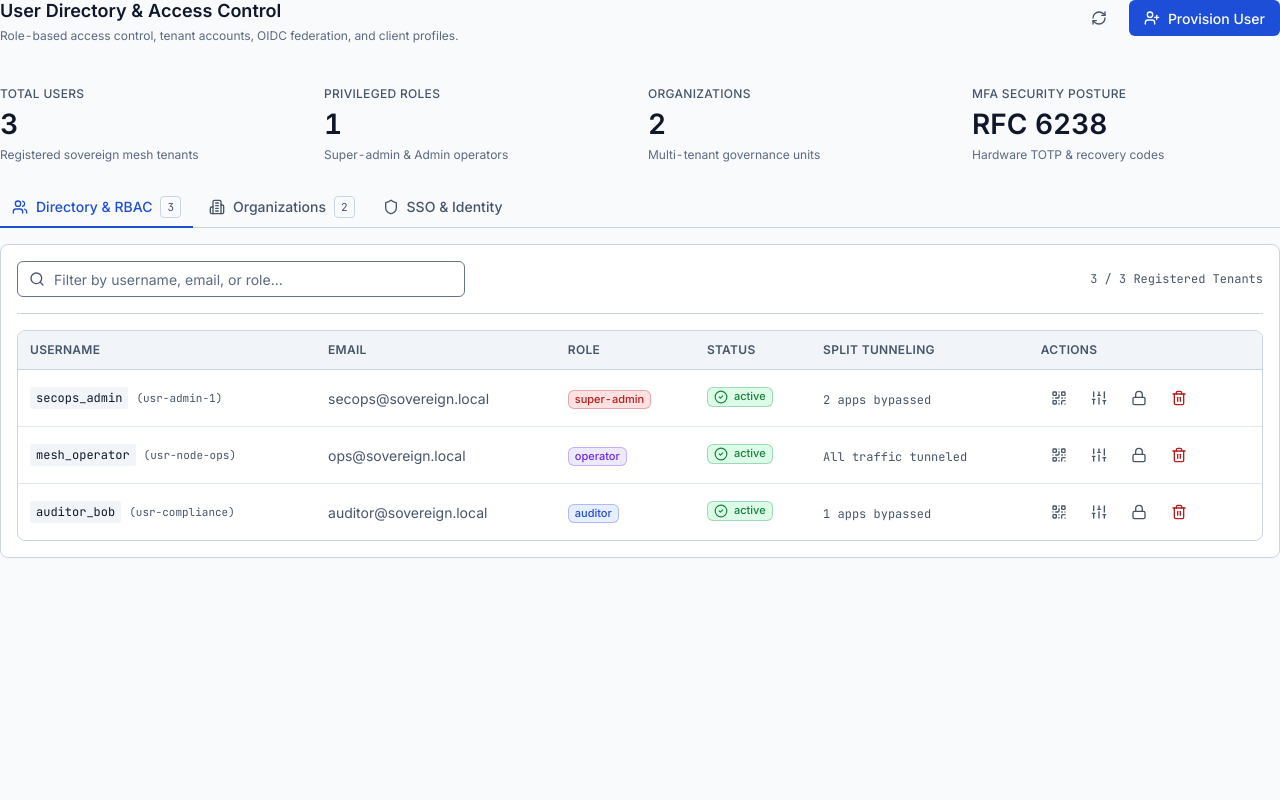
Test: WP-410: UsersRoute (Role-Based Access Control, Organizations & Client Profiles) › 2. Provisions a new tenant user via the modal dialog
Expected: the text "secops_admin" is shown, [30,387,128,409]
# Click "Provision User" button
Click the button "Provision User" at (1204, 18), box [1129,0,1279,36]
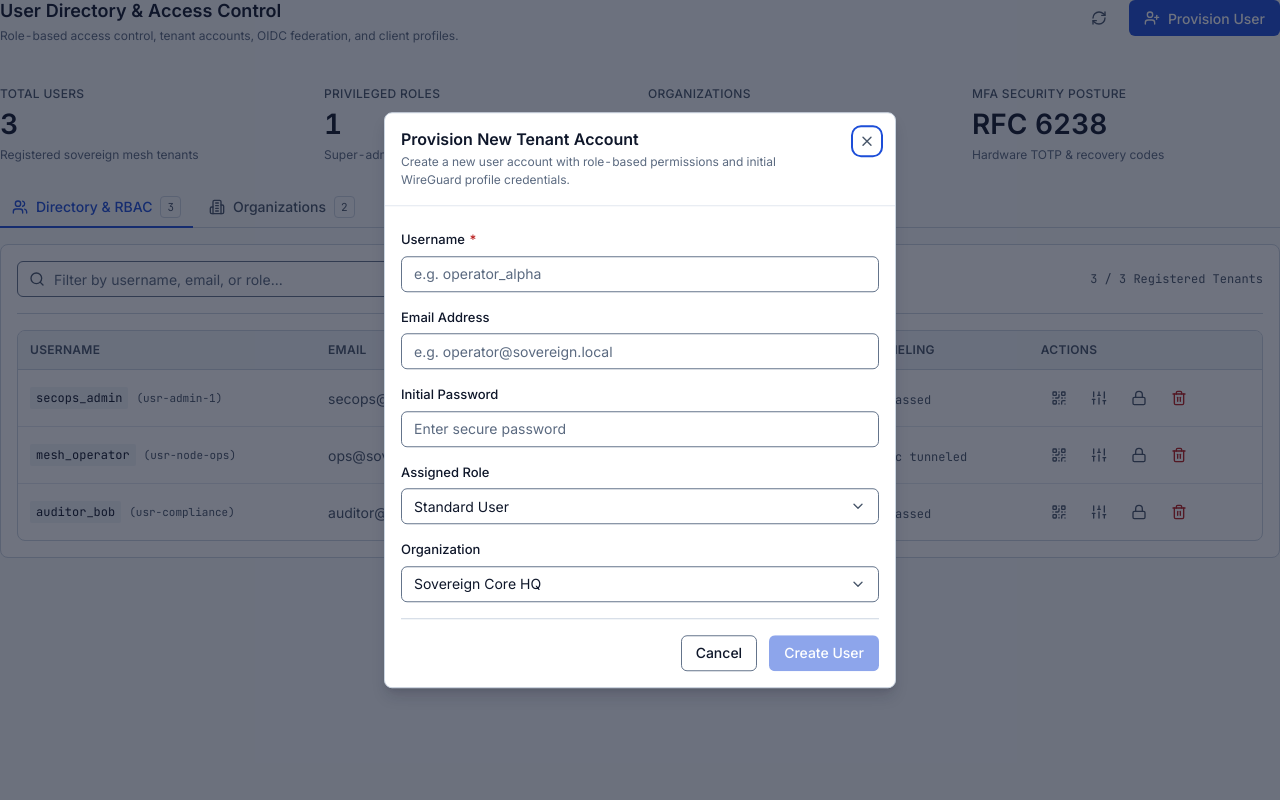
Now the dialog is shown, box [384,112,896,688]
# Fill username
Type "new_field_operator" into the field with placeholder "e.g. operator_alpha" at (640, 274), box [401,256,879,292]
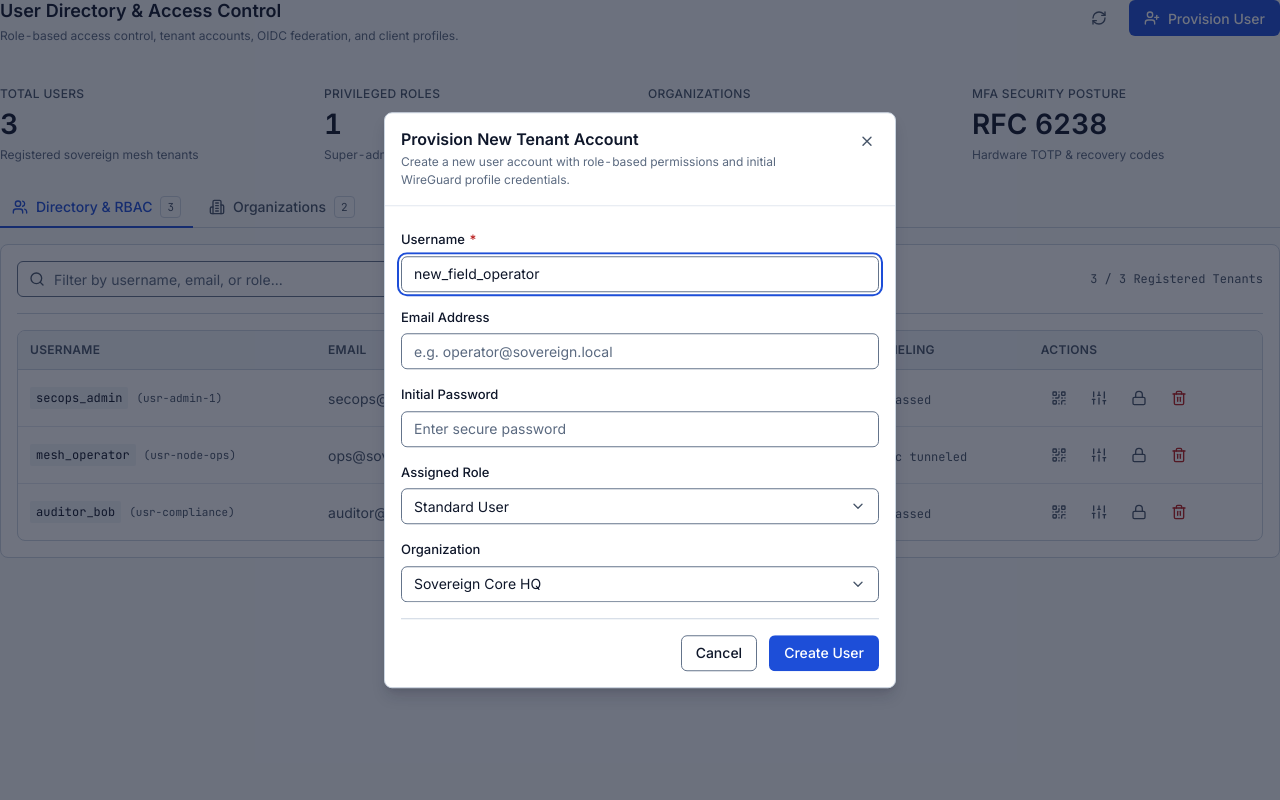
# Fill email
Type "new_field_operator@acme.corp" into the field with placeholder "e.g. operator@sovereign.local" at (640, 351), box [401,333,879,369]
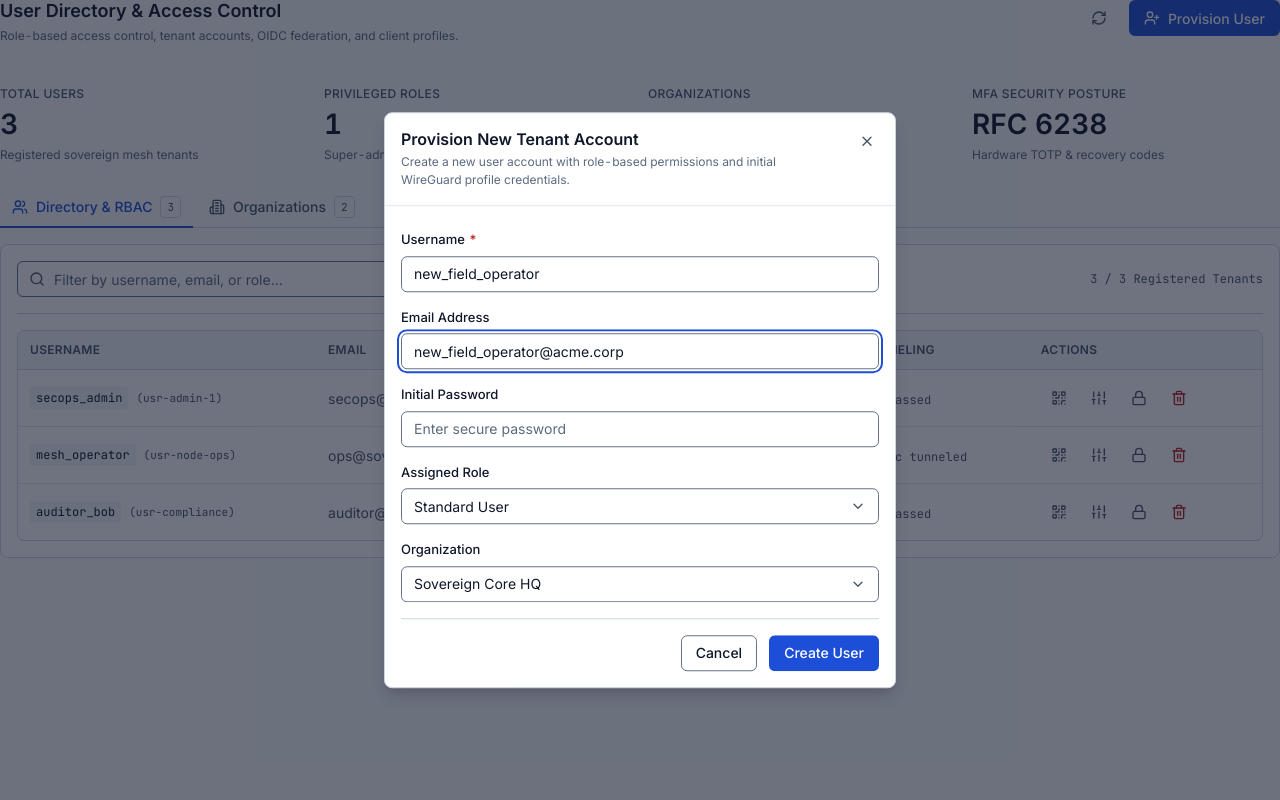
Click the button "Create User" at (824, 653), box [769,635,879,671]
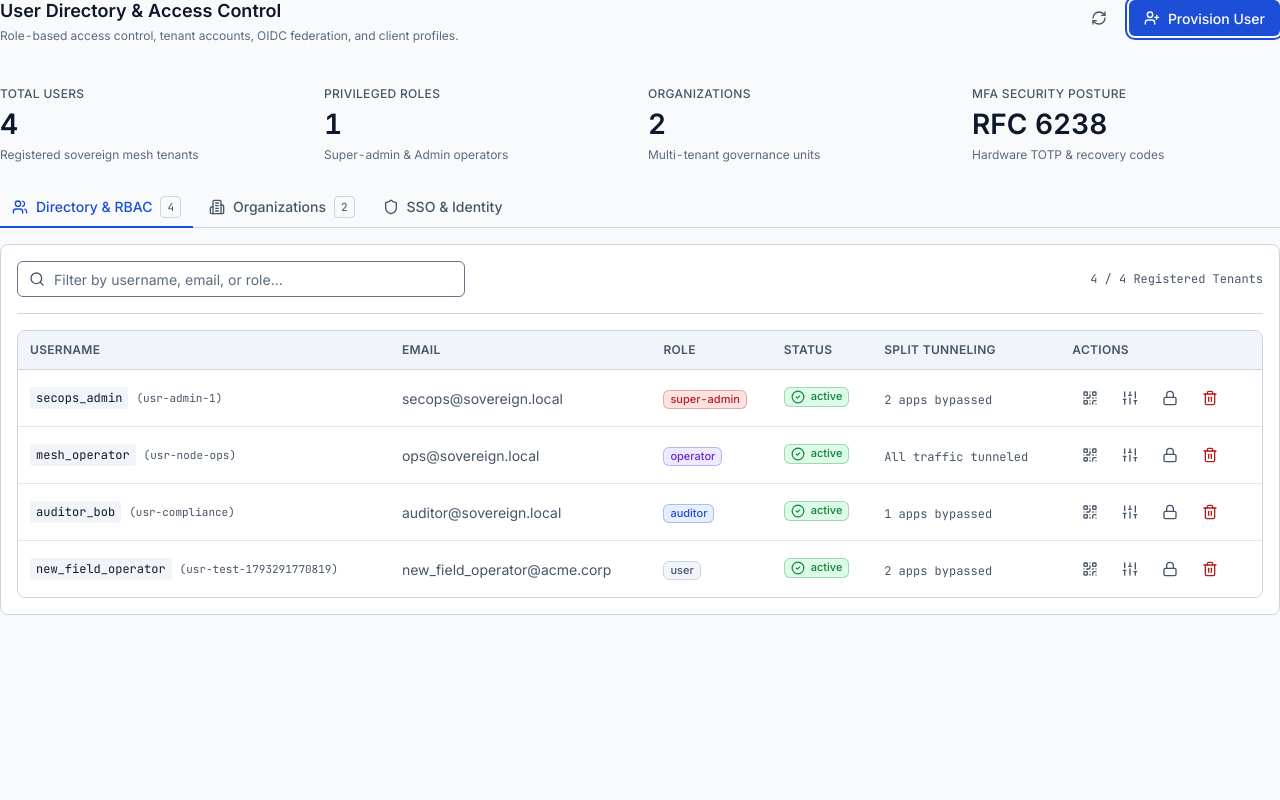
Now the text "new_field_operator" is shown, box [30,558,172,580]
